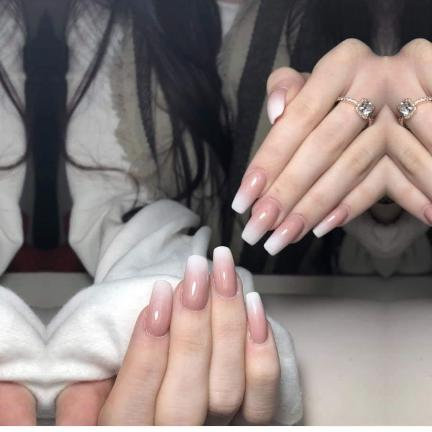Nail: (241, 198, 279, 246), (263, 214, 304, 256), (231, 168, 267, 214), (144, 280, 172, 337), (181, 255, 208, 311), (212, 246, 237, 298), (312, 206, 348, 238), (246, 292, 267, 344), (266, 88, 285, 125), (423, 206, 432, 223)
